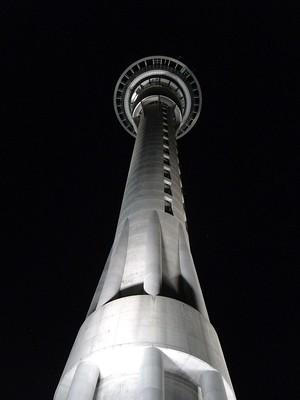building: (50, 50, 244, 400)
